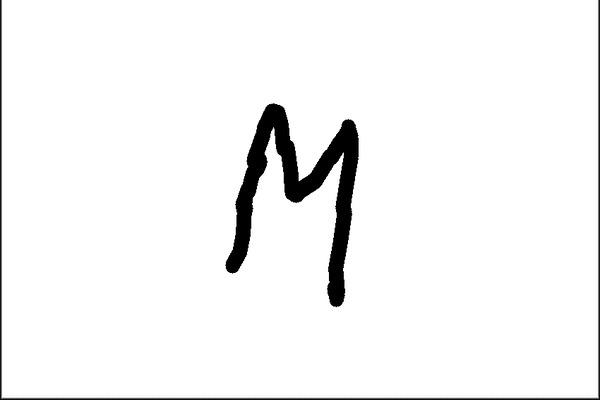M: (227, 97, 365, 307)
